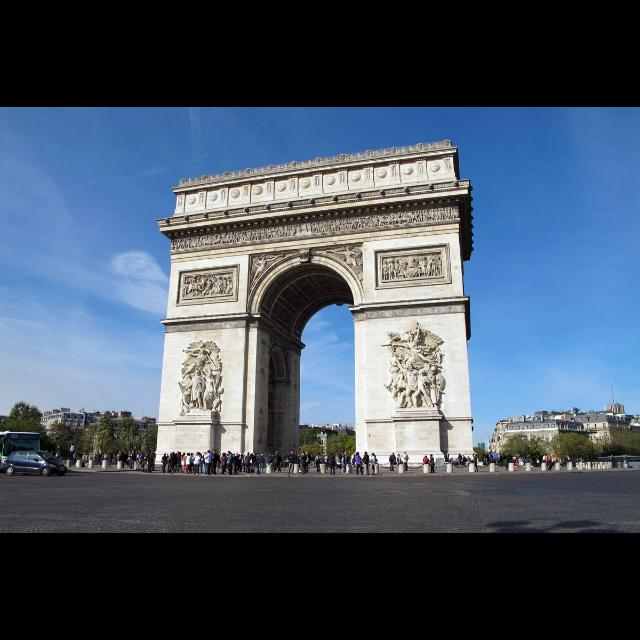head: (506, 456, 512, 472), (514, 454, 520, 466), (291, 450, 295, 456), (197, 452, 201, 456), (207, 451, 211, 455), (213, 451, 217, 455), (223, 454, 227, 458), (228, 452, 232, 456), (306, 452, 310, 456), (329, 452, 333, 456), (344, 453, 348, 457), (365, 452, 369, 456), (372, 454, 376, 458), (404, 452, 408, 456), (484, 452, 488, 456), (138, 451, 142, 454), (165, 454, 168, 458), (172, 452, 175, 456), (232, 454, 235, 458), (624, 456, 628, 459), (56, 452, 60, 454), (72, 444, 74, 448), (112, 452, 114, 456), (128, 452, 132, 454), (148, 454, 152, 456), (178, 454, 182, 456), (184, 452, 186, 456), (188, 454, 190, 458), (192, 454, 194, 458), (200, 454, 202, 458), (204, 452, 206, 456), (238, 456, 242, 458), (242, 454, 244, 458), (256, 454, 260, 456), (260, 456, 264, 458), (270, 454, 272, 458), (306, 452, 308, 456), (302, 454, 304, 458), (318, 452, 320, 456), (326, 454, 328, 458), (340, 454, 342, 458), (342, 452, 344, 456), (392, 454, 396, 456), (398, 454, 400, 458), (476, 454, 478, 458), (503, 454, 505, 458), (554, 452, 556, 456), (122, 452, 125, 454), (356, 454, 359, 456), (431, 456, 434, 458), (76, 454, 78, 456), (99, 453, 101, 455), (106, 453, 108, 455), (120, 452, 122, 454), (132, 452, 134, 454), (137, 452, 139, 454), (248, 454, 250, 456), (426, 456, 428, 458), (447, 453, 449, 455), (459, 454, 461, 456), (468, 457, 470, 459), (491, 453, 493, 455), (495, 452, 497, 454), (500, 456, 502, 458), (521, 458, 523, 460), (545, 455, 547, 457), (549, 454, 551, 456)
person: (286, 450, 296, 476), (167, 452, 177, 476), (300, 452, 310, 476), (326, 452, 336, 476), (354, 452, 364, 476), (548, 452, 560, 472), (204, 450, 212, 478), (192, 452, 202, 474), (369, 454, 379, 476), (362, 452, 371, 476), (160, 454, 170, 474), (333, 454, 343, 474), (389, 453, 399, 473), (342, 452, 351, 474), (202, 452, 210, 476), (226, 452, 234, 476), (119, 451, 128, 472), (185, 453, 193, 475), (220, 454, 228, 476), (244, 453, 252, 475), (315, 452, 323, 474), (146, 452, 154, 473), (176, 452, 184, 473), (129, 451, 137, 471), (188, 454, 196, 474), (196, 454, 204, 474), (238, 454, 246, 474), (258, 454, 266, 474), (322, 452, 330, 472), (402, 452, 410, 472), (428, 455, 436, 475), (472, 453, 480, 473), (212, 450, 218, 476), (396, 453, 404, 472), (180, 452, 186, 474), (235, 454, 241, 476), (304, 452, 310, 474), (482, 452, 490, 468), (69, 442, 75, 462), (135, 451, 141, 471), (138, 450, 144, 470), (231, 454, 237, 474), (300, 452, 306, 472), (107, 451, 113, 469), (117, 451, 123, 469), (267, 454, 273, 472), (339, 452, 345, 470), (547, 454, 553, 471), (72, 452, 78, 468), (422, 456, 430, 468), (492, 451, 498, 467), (506, 456, 512, 472), (623, 454, 629, 470), (256, 453, 260, 475), (96, 452, 102, 466), (488, 452, 494, 466), (542, 455, 548, 469), (128, 450, 132, 470), (502, 454, 508, 466), (514, 454, 520, 466), (519, 457, 525, 468), (467, 456, 473, 466), (458, 453, 462, 467), (500, 454, 504, 468), (56, 451, 60, 463), (104, 452, 108, 464), (446, 454, 450, 464)
